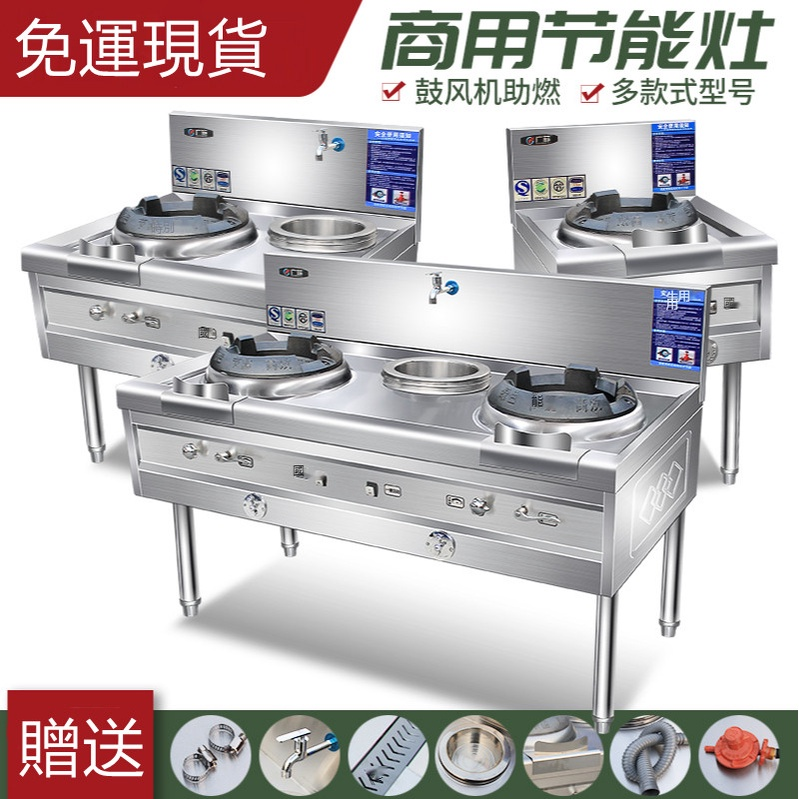gasoven: (104, 247, 716, 727), (10, 103, 440, 529), (497, 118, 785, 487)
